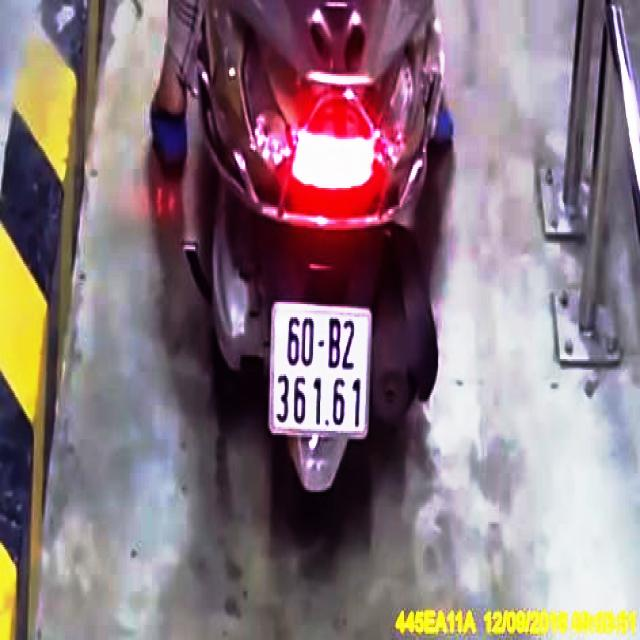license_plate: (271, 300, 372, 439)
